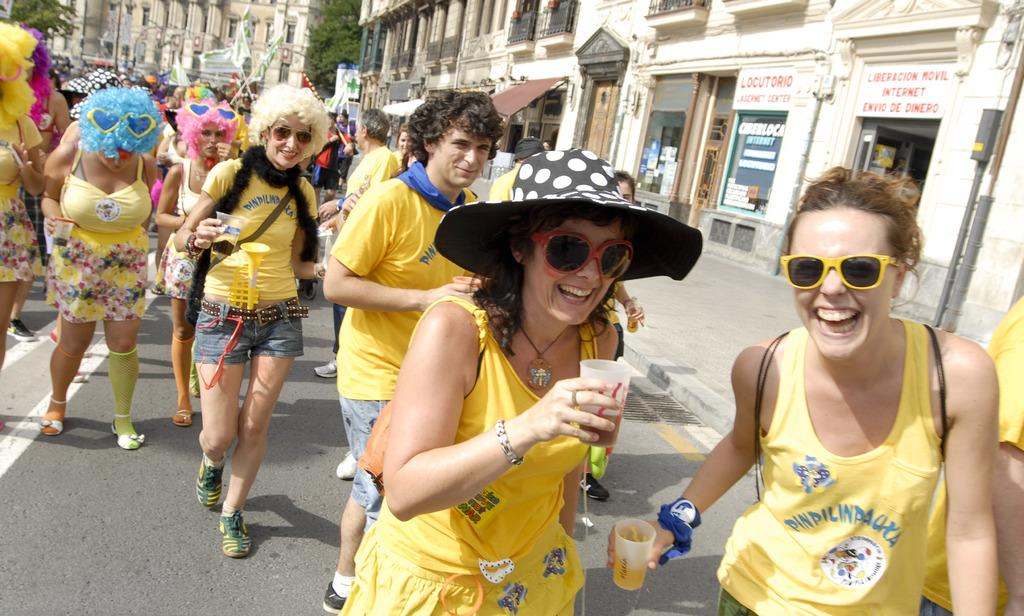Hat: (433, 145, 705, 280)
